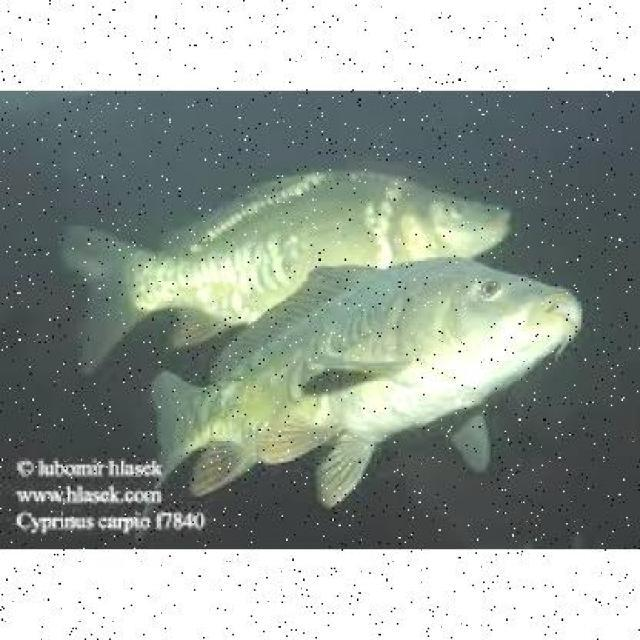ikan-mas: (147, 246, 586, 489), (62, 164, 520, 350)
